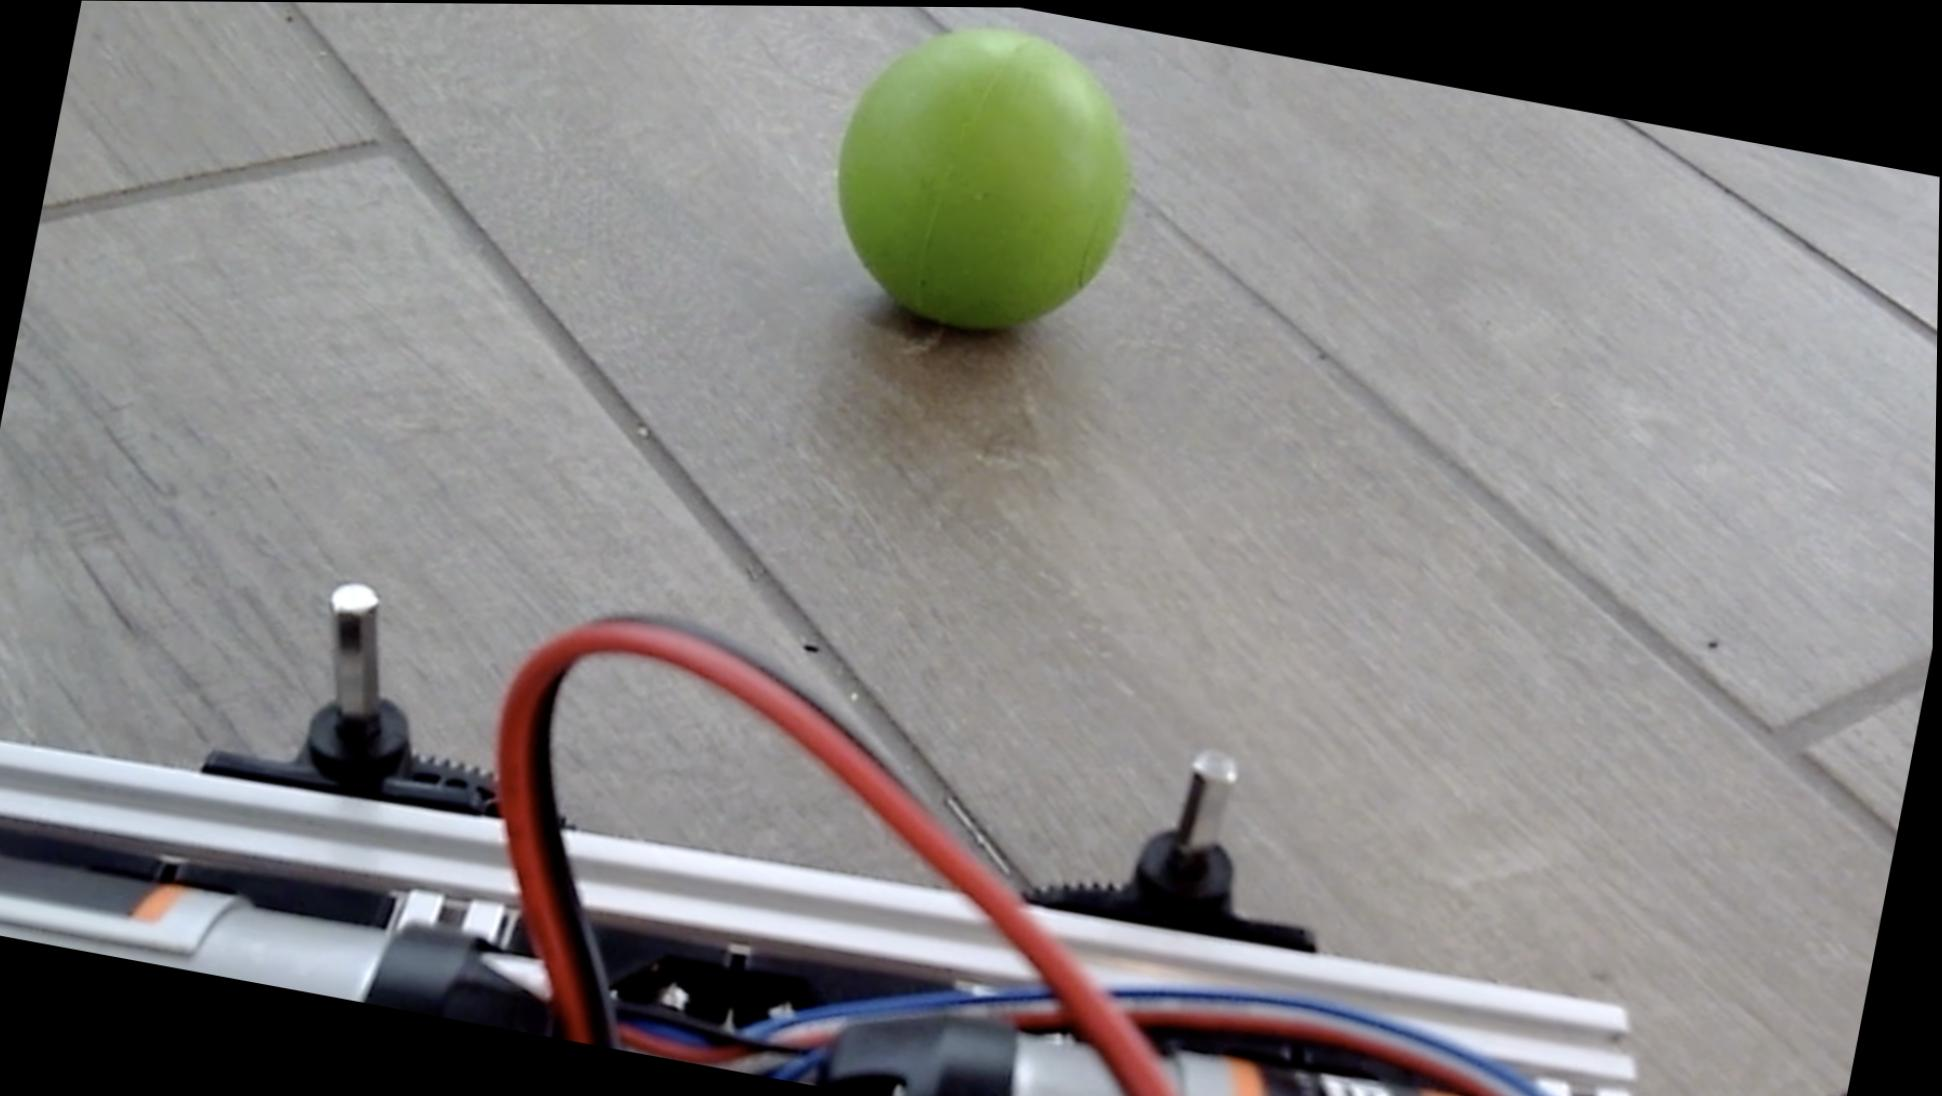greenball: (807, 5, 1159, 357)
